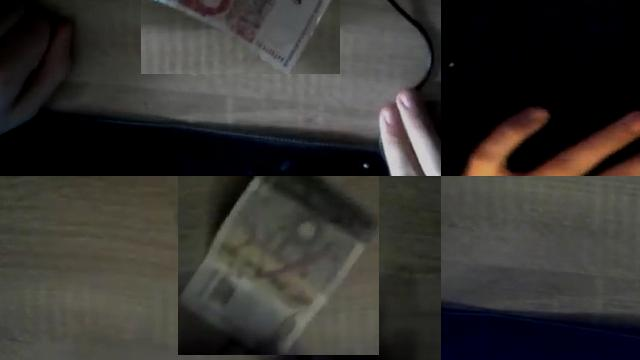10leva: (178, 176, 379, 355)
5leva: (152, 0, 333, 74)
